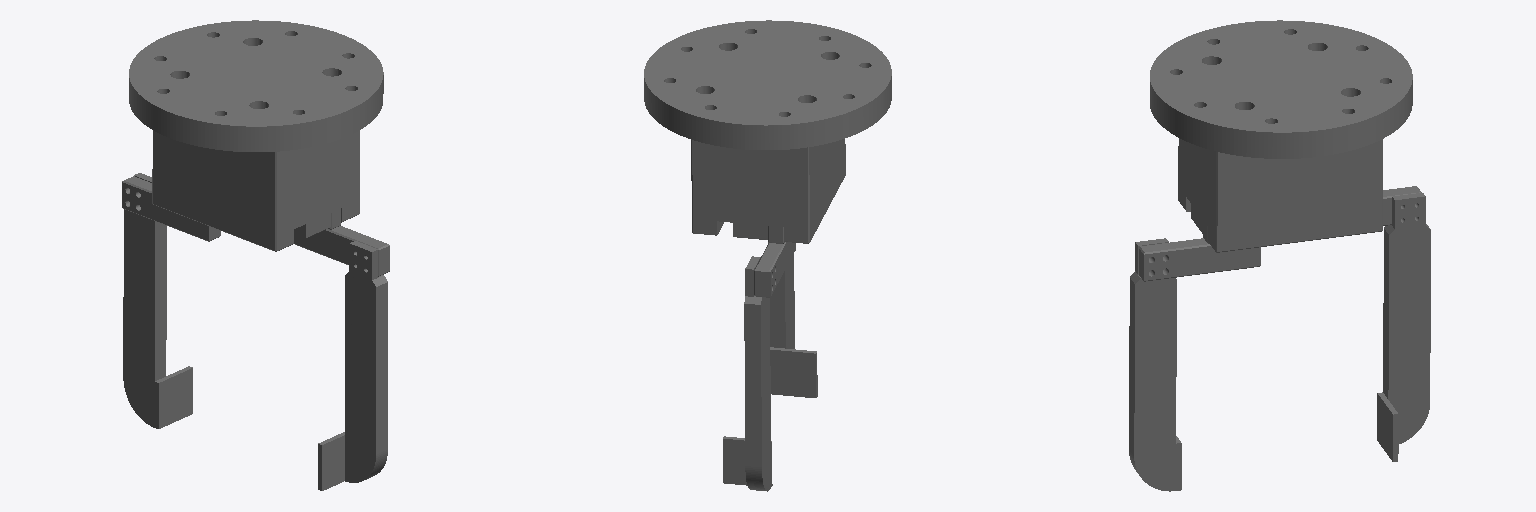
The robot description file, URDF, robot "custom_robots":
<?xml version="1.0" ?>
<robot name="custom_robots" version="1.0">
  <material name="black">
    <color rgba="0.0 0.0 0.0 1.0"/>
  </material>
  <material name="blue">
    <color rgba="0.0 0.0 0.8 1.0"/>
  </material>
  <material name="green">
    <color rgba="0.0 0.8 0.0 1.0"/>
  </material>
  <material name="grey_">
    <color rgba="0.2 0.2 0.2 1.0"/>
  </material>
  <material name="orange">
    <color rgba="1.0 0.423529411765 0.0392156862745 1.0"/>
  </material>
  <material name="brown">
    <color rgba="0.870588235294 0.811764705882 0.764705882353 1.0"/>
  </material>
  <material name="red">
    <color rgba="0.8 0.0 0.0 1.0"/>
  </material>
  <material name="white">
    <color rgba="1.0 1.0 1.0 1.0"/>
  </material>
  <material name="metal">
    <color rgba="0.76862745098 0.749019607843 0.729411764706 1.0"/>
  </material>
  <material name="metal_grey">
    <color rgba="0.501960784314 0.501960784314 0.501960784314 1.0"/>
  </material>
  <material name="metal_white">
    <color rgba="0.866666666667 0.866666666667 0.890196078431 1.0"/>
  </material>
  <link name="base_link"/>
  <joint name="indy0_joint_base_link" type="fixed">
    <origin rpy="0.0 0.0 3.62548851476" xyz="1.58721767288 1.818021349 0.593100988132"/>
    <parent link="base_link"/>
    <child link="indy0_link0"/>
  </joint>
  <link name="indy0_link0">
    <inertial>
      <origin rpy="0.0 0.0 0.0" xyz="0.0 0.0 0.0"/>
      <mass value="1.59306955"/>
      <inertia ixx="0.00572623" ixy="2.51e-06" ixz="-0.0001138" iyy="0.00558959" iyz="-1.4e-07" izz="0.00966674"/>
    </inertial>
    <visual>
      <origin rpy="0.0 0.0 0.0" xyz="0.0 0.0 0.0"/>
      <geometry>
        <mesh filename="package://indy7_description/meshes/stl/Indy7_0.stl"/>
      </geometry>
      <material name="metal_grey"/>
    </visual>
    <collision>
      <origin rpy="-0.0 1.57079633 0.0" xyz="-0.1 0.0 0.03"/>
      <geometry>
        <cylinder length="0.2" radius="0.05"/>
      </geometry>
    </collision>
  </link>
  <link name="indy0_link1">
    <inertial>
      <origin rpy="0.0 0.0 0.0" xyz="0.0 0.0 0.0"/>
      <mass value="11.8030102"/>
      <inertia ixx="0.15418559" ixy="-2.35e-06" ixz="1.739e-05" iyy="0.12937017" iyz="-0.04854267" izz="0.05964415"/>
    </inertial>
    <visual>
      <origin rpy="0.0 0.0 0.0" xyz="0.0 0.0 0.0"/>
      <geometry>
        <mesh filename="package://indy7_description/meshes/stl/Indy7_1.stl"/>
      </geometry>
      <material name="metal_grey"/>
    </visual>
    <collision>
      <origin rpy="0.0 0.0 0.0" xyz="0.0 0.0 0.072"/>
      <geometry>
        <cylinder length="0.3" radius="0.1"/>
      </geometry>
    </collision>
  </link>
  <link name="indy0_link2">
    <inertial>
      <origin rpy="0.0 0.0 0.0" xyz="0.0 0.0 0.0"/>
      <mass value="7.99292141"/>
      <inertia ixx="0.2935698" ixy="-4e-07" ixz="1.441e-05" iyy="0.28094142" iyz="0.03727972" izz="0.03620609"/>
    </inertial>
    <visual>
      <origin rpy="0.0 0.0 0.0" xyz="0.0 0.0 0.0"/>
      <geometry>
        <mesh filename="package://indy7_description/meshes/stl/Indy7_2.stl"/>
      </geometry>
      <material name="metal_grey"/>
    </visual>
    <collision>
      <origin rpy="1.57079632679 0.0 -1.57079632679" xyz="-0.225 0.0 0.09"/>
      <geometry>
        <cylinder length="0.45" radius="0.073"/>
      </geometry>
    </collision>
    <collision>
      <origin rpy="0.0 0.0 0.0" xyz="0.0 0.0 -0.01"/>
      <geometry>
        <cylinder length="0.2" radius="0.085"/>
      </geometry>
    </collision>
  </link>
  <link name="indy0_link3">
    <inertial>
      <origin rpy="0.0 0.0 0.0" xyz="0.0 0.0 0.0"/>
      <mass value="2.99134127"/>
      <inertia ixx="0.03424593" ixy="1.49e-06" ixz="7.24e-06" iyy="0.03406024" iyz="0.00186009" izz="0.00450477"/>
    </inertial>
    <visual>
      <origin rpy="0.0 0.0 0.0" xyz="0.0 0.0 0.0"/>
      <geometry>
        <mesh filename="package://indy7_description/meshes/stl/Indy7_3.stl"/>
      </geometry>
      <material name="metal_grey"/>
    </visual>
    <collision>
      <origin rpy="0.0 0.0 0.0" xyz="0.0 0.0 0.03"/>
      <geometry>
        <cylinder length="0.2" radius="0.065"/>
      </geometry>
    </collision>
  </link>
  <link name="indy0_link4">
    <inertial>
      <origin rpy="0.0 0.0 0.0" xyz="0.0 0.0 0.0"/>
      <mass value="2.12317035"/>
      <inertia ixx="0.00670405" ixy="3.75e-06" ixz="1.5e-06" iyy="0.00279246" iyz="-0.00127967" izz="0.00619341"/>
    </inertial>
    <visual>
      <origin rpy="0.0 0.0 0.0" xyz="0.0 0.0 0.0"/>
      <geometry>
        <mesh filename="package://indy7_description/meshes/stl/Indy7_4.stl"/>
      </geometry>
      <material name="metal_grey"/>
    </visual>
    <collision>
      <origin rpy="0.0 0.0 0.0" xyz="0.0 0.0 -0.092"/>
      <geometry>
        <cylinder length="0.35" radius="0.06"/>
      </geometry>
    </collision>
  </link>
  <link name="indy0_link5">
    <inertial>
      <origin rpy="0.0 0.0 0.0" xyz="0.0 0.0 0.0"/>
      <mass value="2.28865091"/>
      <inertia ixx="0.00994891" ixy="1.4e-07" ixz="3.21e-06" iyy="0.00978189" iyz="-0.00093546" izz="0.00271492"/>
    </inertial>
    <visual>
      <origin rpy="0.0 0.0 0.0" xyz="0.0 0.0 0.0"/>
      <geometry>
        <mesh filename="package://indy7_description/meshes/stl/Indy7_5.stl"/>
      </geometry>
      <material name="metal_grey"/>
    </visual>
    <collision>
      <origin rpy="0.0 0.0 0.0" xyz="-0.0 0.0 -0.0225"/>
      <geometry>
        <cylinder length="0.183" radius="0.055"/>
      </geometry>
    </collision>
  </link>
  <link name="indy0_link6">
    <inertial>
      <origin rpy="0.0 0.0 0.0" xyz="0.0 0.0 0.0"/>
      <mass value="0.40083918"/>
      <inertia ixx="0.00043534" ixy="1.3e-07" ixz="-2e-08" iyy="0.00044549" iyz="5.1e-07" izz="0.00059634"/>
    </inertial>
    <visual>
      <origin rpy="0.0 0.0 0.0" xyz="0.0 0.0 0.0"/>
      <geometry>
        <mesh filename="package://indy7_description/meshes/stl/Indy7_6.stl"/>
      </geometry>
      <material name="metal_grey"/>
    </visual>
    <collision>
      <origin rpy="0.0 0.0 0.0" xyz="0.0 0.0 -0.038"/>
      <geometry>
        <cylinder length="0.25" radius="0.06"/>
      </geometry>
    </collision>
  </link>
  <link name="indy0_tcp">
    <visual>
      <origin rpy="0.0 0.0 1.570796" xyz="0.0 0.0 0.0"/>
      <geometry>
        <mesh filename="package://my_mesh/meshes/stl/indy_gripper_asm2_res.STL"/>
      </geometry>
      <material name="metal_grey"/>
    </visual>
    <collision>
      <origin rpy="0.0 0.0 0.0" xyz="0.005 0.044 0.1"/>
      <geometry>
        <cylinder length="0.08" radius="0.016"/>
      </geometry>
    </collision>
    <collision>
      <origin rpy="0.0 0.0 0.0" xyz="-0.005 0.044 0.1"/>
      <geometry>
        <cylinder length="0.08" radius="0.016"/>
      </geometry>
    </collision>
    <collision>
      <origin rpy="0.0 0.0 0.0" xyz="0.005 -0.044 0.1"/>
      <geometry>
        <cylinder length="0.08" radius="0.016"/>
      </geometry>
    </collision>
    <collision>
      <origin rpy="0.0 0.0 0.0" xyz="-0.005 -0.044 0.1"/>
      <geometry>
        <cylinder length="0.08" radius="0.016"/>
      </geometry>
    </collision>
  </link>
  <joint name="indy0_joint0" type="revolute">
    <origin rpy="0.0 0.0 0.0" xyz="0.0 0.0 0.0775"/>
    <axis xyz="0.0 0.0 1.0"/>
    <parent link="indy0_link0"/>
    <child link="indy0_link1"/>
    <limit effort="3.14159265359" lower="-3.05432619099" upper="3.05432619099" velocity="1.308996939"/>
  </joint>
  <joint name="indy0_joint1" type="revolute">
    <origin rpy="1.57079632679 1.57079632679 0.0" xyz="0.0 -0.109 0.222"/>
    <axis xyz="0.0 0.0 1.0"/>
    <parent link="indy0_link1"/>
    <child link="indy0_link2"/>
    <limit effort="3.14159265359" lower="-3.05432619099" upper="3.05432619099" velocity="1.308996939"/>
  </joint>
  <joint name="indy0_joint2" type="revolute">
    <origin rpy="0.0 0.0 0.0" xyz="-0.45 0.0 -0.0305"/>
    <axis xyz="0.0 0.0 1.0"/>
    <parent link="indy0_link2"/>
    <child link="indy0_link3"/>
    <limit effort="3.14159265359" lower="-3.05432619099" upper="3.05432619099" velocity="1.308996939"/>
  </joint>
  <joint name="indy0_joint3" type="revolute">
    <origin rpy="-1.57079632679 0.0 1.57079632679" xyz="-0.267 0.0 -0.075"/>
    <axis xyz="0.0 0.0 1.0"/>
    <parent link="indy0_link3"/>
    <child link="indy0_link4"/>
    <limit effort="3.14159265359" lower="-3.05432619099" upper="3.05432619099" velocity="1.57079632679"/>
  </joint>
  <joint name="indy0_joint4" type="revolute">
    <origin rpy="1.57079632679 1.57079632679 0.0" xyz="0.0 -0.114 0.083"/>
    <axis xyz="0.0 0.0 1.0"/>
    <parent link="indy0_link4"/>
    <child link="indy0_link5"/>
    <limit effort="3.14159265359" lower="-3.05432619099" upper="3.05432619099" velocity="1.57079632679"/>
  </joint>
  <joint name="indy0_joint5" type="revolute">
    <origin rpy="-1.57079632679 0.0 1.57079632679" xyz="-0.168 0.0 0.069"/>
    <axis xyz="0.0 0.0 1.0"/>
    <parent link="indy0_link5"/>
    <child link="indy0_link6"/>
    <limit effort="3.14159265359" lower="-3.75245789179" upper="3.75245789179" velocity="1.57079632679"/>
  </joint>
  <joint name="indy0_tcp" type="fixed">
    <origin rpy="0.0 0.0 0.0" xyz="0.0 0.0 0.06"/>
    <parent link="indy0_link6"/>
    <child link="indy0_tcp"/>
  </joint>
  <transmission name="indy0_tran0">
    <type>transmission_interface/SimpleTransmission</type>
    <joint name="indy0_joint0">
      <hardwareInterface>PositionJointInterface</hardwareInterface>
    </joint>
    <actuator name="indy0_motor0">
      <mechanicalReduction>1.0</mechanicalReduction>
    </actuator>
  </transmission>
  <transmission name="indy0_tran1">
    <type>transmission_interface/SimpleTransmission</type>
    <joint name="indy0_joint1">
      <hardwareInterface>PositionJointInterface</hardwareInterface>
    </joint>
    <actuator name="indy0_motor1">
      <mechanicalReduction>1.0</mechanicalReduction>
    </actuator>
  </transmission>
  <transmission name="indy0_tran2">
    <type>transmission_interface/SimpleTransmission</type>
    <joint name="indy0_joint2">
      <hardwareInterface>PositionJointInterface</hardwareInterface>
    </joint>
    <actuator name="indy0_motor2">
      <mechanicalReduction>1.0</mechanicalReduction>
    </actuator>
  </transmission>
  <transmission name="indy0_tran3">
    <type>transmission_interface/SimpleTransmission</type>
    <joint name="indy0_joint3">
      <hardwareInterface>PositionJointInterface</hardwareInterface>
    </joint>
    <actuator name="indy0_motor3">
      <mechanicalReduction>1.0</mechanicalReduction>
    </actuator>
  </transmission>
  <transmission name="indy0_tran4">
    <type>transmission_interface/SimpleTransmission</type>
    <joint name="indy0_joint4">
      <hardwareInterface>PositionJointInterface</hardwareInterface>
    </joint>
    <actuator name="indy0_motor4">
      <mechanicalReduction>1.0</mechanicalReduction>
    </actuator>
  </transmission>
  <transmission name="indy0_tran5">
    <type>transmission_interface/SimpleTransmission</type>
    <joint name="indy0_joint5">
      <hardwareInterface>PositionJointInterface</hardwareInterface>
    </joint>
    <actuator name="indy0_motor5">
      <mechanicalReduction>1.0</mechanicalReduction>
    </actuator>
  </transmission>
  <joint name="panda1_joint_base_link" type="fixed">
    <origin rpy="0.0 -0.0 0.0" xyz="-0.0 -0.0 -0.333000004292"/>
    <parent link="panda1_link0"/>
    <child link="base_link"/>
  </joint>
  <link name="panda1_link0">
    <visual>
      <origin rpy="0.0 -0.0 0.0" xyz="0.0 0.0 -0.333000004292"/>
      <geometry>
        <mesh filename="package://franka_description/meshes/visual/link0.dae"/>
      </geometry>
    </visual>
    <collision>
      <origin rpy="3.14159265 -1.37340076987 3.14159265" xyz="-0.0299999993294 0.0 -0.303000003099"/>
      <geometry>
        <cylinder length="0.102" radius="0.1"/>
      </geometry>
    </collision>
    <collision>
      <origin rpy="1.57079633 -0.0 0.0" xyz="-0.0500000007451 0.0 -0.303000003099"/>
      <geometry>
        <cylinder length="0.3" radius="0.05"/>
      </geometry>
    </collision>
  </link>
  <link name="panda1_link1">
    <visual>
      <origin rpy="1.57079632679 -0.0 0.0" xyz="0.0 0.0 0.0"/>
      <geometry>
        <mesh filename="package://franka_description/meshes/visual/link1.dae"/>
      </geometry>
    </visual>
    <collision>
      <origin rpy="-1.14103405447 -0.0 0.0" xyz="0.0 0.0750000029802 -0.027499999851"/>
      <geometry>
        <cylinder length="0.132" radius="0.11"/>
      </geometry>
    </collision>
  </link>
  <joint name="panda1_joint1" type="revolute">
    <origin rpy="1.57079632679 -0.0 0.0" xyz="-0.0 -0.0 -0.0"/>
    <axis xyz="0.0 0.0 1.0"/>
    <parent link="panda1_link1"/>
    <child link="panda1_link0"/>
    <limit effort="3.14159265359" lower="-0.0479965544298" upper="0.0479965544298" velocity="1.308996939"/>
    <safety_controller k_position="100.0" k_velocity="40.0" soft_lower_limit="-2.8973" soft_upper_limit="2.8973"/>
  </joint>
  <link name="panda1_link2">
    <visual>
      <origin rpy="-1.57079632679 -0.0 0.0" xyz="0.0 1.54732216623e-12 -0.316000014544"/>
      <geometry>
        <mesh filename="package://franka_description/meshes/visual/link2.dae"/>
      </geometry>
    </visual>
    <collision>
      <origin rpy="0.41241044501 -0.0 0.0" xyz="0.0 0.035000000149 -0.236000016332"/>
      <geometry>
        <cylinder length="0.175" radius="0.09"/>
      </geometry>
    </collision>
  </link>
  <joint name="panda1_joint2" type="revolute">
    <origin rpy="-1.57079632679 -0.0 0.0" xyz="-0.0 1.54732216623e-12 -0.316000014544"/>
    <axis xyz="0.0 0.0 1.0"/>
    <parent link="panda1_link2"/>
    <child link="panda1_link1"/>
    <limit effort="3.14159265359" lower="-0.0296705972839" upper="0.0296705972839" velocity="1.308996939"/>
    <safety_controller k_position="100.0" k_velocity="40.0" soft_lower_limit="-1.7628" soft_upper_limit="1.7628"/>
  </joint>
  <link name="panda1_link3">
    <visual>
      <origin rpy="-1.57079632679 -0.0 0.0" xyz="-0.0825000032783 0.0 0.0"/>
      <geometry>
        <mesh filename="package://franka_description/meshes/visual/link3.dae"/>
      </geometry>
    </visual>
    <collision>
      <origin rpy="-0.837979039329 -0.827091928922 1.70460287535" xyz="-0.0425000041723 -0.035000000149 -0.0270000007004"/>
      <geometry>
        <cylinder length="0.12" radius="0.09"/>
      </geometry>
    </collision>
  </link>
  <joint name="panda1_joint3" type="revolute">
    <origin rpy="-1.57079632679 -0.0 0.0" xyz="-0.0825000032783 -0.0 -0.0"/>
    <axis xyz="0.0 0.0 1.0"/>
    <parent link="panda1_link3"/>
    <child link="panda1_link2"/>
    <limit effort="3.14159265359" lower="-0.0479965544298" upper="0.0479965544298" velocity="1.308996939"/>
    <safety_controller k_position="100.0" k_velocity="40.0" soft_lower_limit="-2.8973" soft_upper_limit="2.8973"/>
  </joint>
  <link name="panda1_link4">
    <visual>
      <origin rpy="1.57079632679 -0.0 0.0" xyz="0.0825000032783 -1.88029019438e-12 -0.384000003338"/>
      <geometry>
        <mesh filename="package://franka_description/meshes/visual/link4.dae"/>
      </geometry>
    </visual>
    <collision>
      <origin rpy="0.426982301215 -0.719163938304 -1.0572056574" xyz="0.027000002563 -0.0270000007004 -0.326000005007"/>
      <geometry>
        <cylinder length="0.17" radius="0.08"/>
      </geometry>
    </collision>
  </link>
  <joint name="panda1_joint4" type="revolute">
    <origin rpy="1.57079632679 -0.0 0.0" xyz="0.0825000032783 -1.88029019438e-12 -0.384000003338"/>
    <axis xyz="0.0 0.0 1.0"/>
    <parent link="panda1_link4"/>
    <child link="panda1_link3"/>
    <limit effort="3.14159265359" lower="-0.0506145483078" upper="-0.00174532925199" velocity="1.308996939"/>
    <safety_controller k_position="100.0" k_velocity="40.0" soft_lower_limit="-3.0718" soft_upper_limit="-0.0698"/>
  </joint>
  <link name="panda1_link5">
    <visual>
      <origin rpy="-1.57079632679 -0.0 0.0" xyz="0.0 0.0 0.0"/>
      <geometry>
        <mesh filename="package://franka_description/meshes/visual/link5.dae"/>
      </geometry>
    </visual>
    <collision>
      <origin rpy="1.30344094827 -0.0 0.0" xyz="0.0 -0.115000002086 -0.0315000005066"/>
      <geometry>
        <cylinder length="0.238" radius="0.08"/>
      </geometry>
    </collision>
  </link>
  <joint name="panda1_joint5" type="revolute">
    <origin rpy="-1.57079632679 -0.0 0.0" xyz="-0.0 -0.0 -0.0"/>
    <axis xyz="0.0 0.0 1.0"/>
    <parent link="panda1_link5"/>
    <child link="panda1_link4"/>
    <limit effort="3.14159265359" lower="-0.0479965544298" upper="0.0479965544298" velocity="1.57079632679"/>
    <safety_controller k_position="100.0" k_velocity="40.0" soft_lower_limit="-2.8973" soft_upper_limit="2.8973"/>
  </joint>
  <link name="panda1_link6">
    <visual>
      <origin rpy="-1.57079632679 -0.0 0.0" xyz="-0.0879999995232 0.0 0.0"/>
      <geometry>
        <mesh filename="package://franka_description/meshes/visual/link6.dae"/>
      </geometry>
    </visual>
    <collision>
      <origin rpy="-1.57079632679 -4.89658877681e-12 1.57079633" xyz="-0.0529999993742 0.0 0.0"/>
      <geometry>
        <cylinder length="0.09" radius="0.065"/>
      </geometry>
    </collision>
    <collision>
      <origin rpy="3.21000004355e-09 -0.0 0.0" xyz="0.00200000405312 -4.89658870905e-14 0.00999999977648"/>
      <geometry>
        <cylinder length="0.13" radius="0.05"/>
      </geometry>
    </collision>
    <collision>
      <origin rpy="-1.37079633217 4.89658877681e-12 -1.57079633" xyz="-0.00299999862909 2.4482943884e-13 -0.0500000007451"/>
      <geometry>
        <cylinder length="0.08" radius="0.04"/>
      </geometry>
    </collision>
  </link>
  <joint name="panda1_joint6" type="revolute">
    <origin rpy="-1.57079632679 -0.0 0.0" xyz="-0.0879999995232 -0.0 -0.0"/>
    <axis xyz="0.0 0.0 1.0"/>
    <parent link="panda1_link6"/>
    <child link="panda1_link5"/>
    <limit effort="3.14159265359" lower="0.00174532925199" upper="0.0628318530718" velocity="1.57079632679"/>
    <safety_controller k_position="100.0" k_velocity="40.0" soft_lower_limit="-0.0175" soft_upper_limit="3.7525"/>
  </joint>
  <link name="panda1_link7">
    <visual>
      <origin rpy="0.0 -0.0 0.0" xyz="0.0 0.0 -0.107000000775"/>
      <geometry>
        <mesh filename="package://franka_description/meshes/visual/link7.dae"/>
      </geometry>
    </visual>
  </link>
  <joint name="panda1_joint7" type="revolute">
    <origin rpy="0.0 -0.0 0.0" xyz="-0.0 -0.0 -0.107000000775"/>
    <axis xyz="0.0 0.0 1.0"/>
    <parent link="panda1_link7"/>
    <child link="panda1_link6"/>
    <limit effort="3.14159265359" lower="-0.0479965544298" upper="0.0479965544298" velocity="1.57079632679"/>
    <safety_controller k_position="100.0" k_velocity="40.0" soft_lower_limit="-2.8973" soft_upper_limit="2.8973"/>
  </joint>
  <link name="panda1_link8"/>
  <joint name="panda1_joint8" type="fixed">
    <origin rpy="0.0 -0.0 0.785398163397" xyz="-0.0 -0.0 -0.0"/>
    <axis xyz="0.0 0.0 0.0"/>
    <parent link="panda1_link8"/>
    <child link="panda1_link7"/>
  </joint>
  <joint name="panda1_hand_joint" type="fixed">
    <origin rpy="0.0 -0.0 0.0" xyz="0.0 0.0 0.0"/>
    <parent link="panda1_hand"/>
    <child link="panda1_link8"/>
  </joint>
  <link name="panda1_hand">
    <visual>
      <origin rpy="0.0 -0.0 0.0" xyz="0.0 0.0 0.0"/>
      <geometry>
        <mesh filename="package://franka_description/meshes/visual/hand.dae"/>
      </geometry>
    </visual>
    <collision>
      <origin rpy="1.57079633 -0.0 0.0" xyz="0.0 0.0 0.0299999993294"/>
      <geometry>
        <cylinder length="0.16" radius="0.045"/>
      </geometry>
    </collision>
    <collision>
      <origin rpy="-0.0 1.57079632359 0.0" xyz="0.0 0.070000000298 -0.019999999553"/>
      <geometry>
        <cylinder length="0.055" radius="0.02"/>
      </geometry>
    </collision>
    <collision>
      <origin rpy="1.57079633 -0.0 0.0" xyz="0.0 -0.070000000298 -0.019999999553"/>
      <geometry>
        <cylinder length="0.05" radius="0.01"/>
      </geometry>
    </collision>
  </link>
  <link name="panda1_leftfinger">
    <visual>
      <geometry>
        <mesh filename="package://franka_description/meshes/visual/finger.dae"/>
      </geometry>
    </visual>
    <collision>
      <origin rpy="-2.73268482 0.0 0.0" xyz="0.0 0.0135 0.035"/>
      <geometry>
        <cylinder length="0.0325" radius="0.018"/>
      </geometry>
    </collision>
  </link>
  <link name="panda1_rightfinger">
    <visual>
      <origin rpy="0.0 0.0 3.14159265359" xyz="0.0 0.0 0.0"/>
      <geometry>
        <mesh filename="package://franka_description/meshes/visual/finger.dae"/>
      </geometry>
    </visual>
    <collision>
      <origin rpy="-2.73268482 0.0 -3.14159265" xyz="0.0 -0.0135 0.035"/>
      <geometry>
        <cylinder length="0.0325" radius="0.018"/>
      </geometry>
    </collision>
  </link>
  <joint name="panda1_finger_joint1" type="fixed">
    <origin rpy="0.0 0.0 0.0" xyz="0.0 0.04 0.0584"/>
    <parent link="panda1_hand"/>
    <child link="panda1_leftfinger"/>
  </joint>
  <joint name="panda1_finger_joint2" type="fixed">
    <origin rpy="0.0 0.0 0.0" xyz="0.0 -0.04 0.0584"/>
    <parent link="panda1_hand"/>
    <child link="panda1_rightfinger"/>
    <mimic joint="panda1_finger_joint1"/>
  </joint>
</robot>

--- What the picture shows (computed from the rendered views, not written in the file) ---
3 views of the same robot in one strip: view 1: azimuth 30°, elevation 25°; view 2: azimuth 150°, elevation 25°; view 3: azimuth 270°, elevation 25° (orthographic).
Model custom_robots with 21 links and 20 joints (13 revolute, 7 fixed), rooted at panda1_hand, posed all joints at 0 but 2 set to mid-range because 0 is outside their limits (panda1_joint4 = -0.0262, panda1_joint6 = 0.0323).
Links seen in each view (by area): view 1: indy0_tcp; view 2: indy0_tcp; view 3: indy0_tcp.
Boxes of the visible links, <box> form: indy0_tcp: <box>122,20,389,490</box>; indy0_tcp: <box>644,20,891,491</box>; indy0_tcp: <box>1129,20,1430,491</box>.
Bounding box of the posed robot: 0.09 × 0.1034 × 0.1476 m (x, y, z).
Meshes: 18 distinct files referenced, 1 mesh visuals loaded (1 binary STL); not drawn: 18 (reference not matched to a file when rendering).